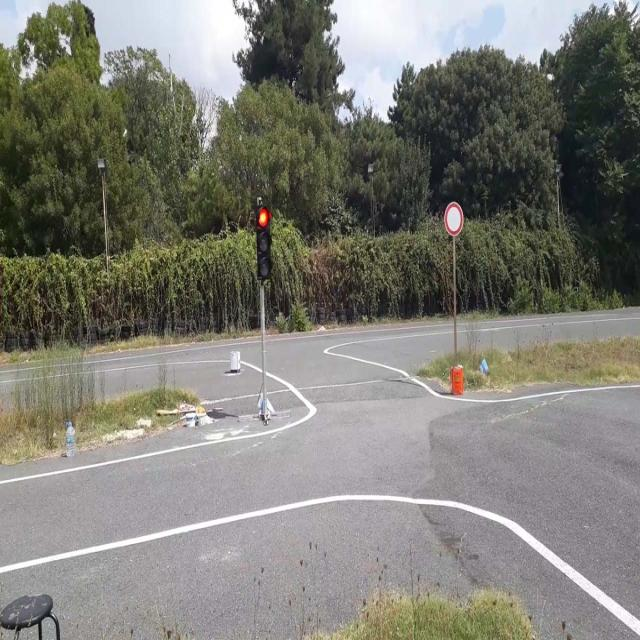kirmizi: (257, 206, 271, 279)
